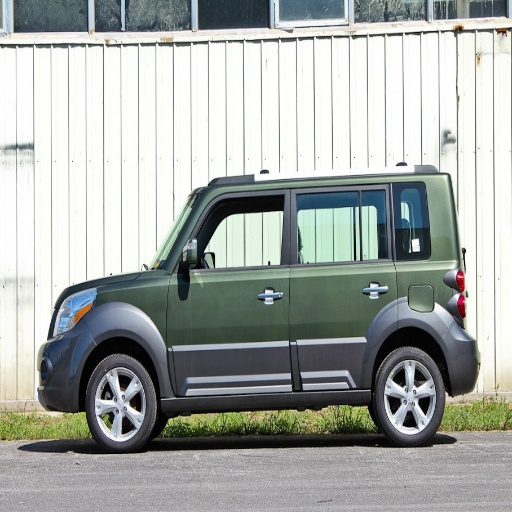back_left_door: (289, 180, 397, 385)
front_left_door: (169, 187, 294, 394)
